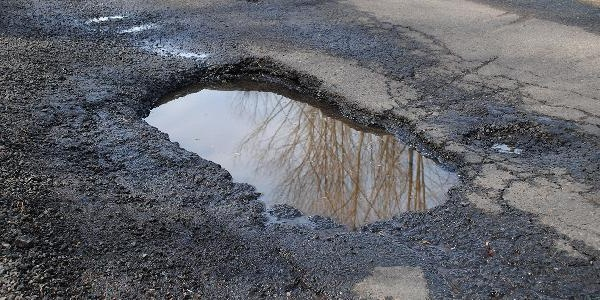pothole: (134, 53, 472, 233), (462, 116, 580, 157)
